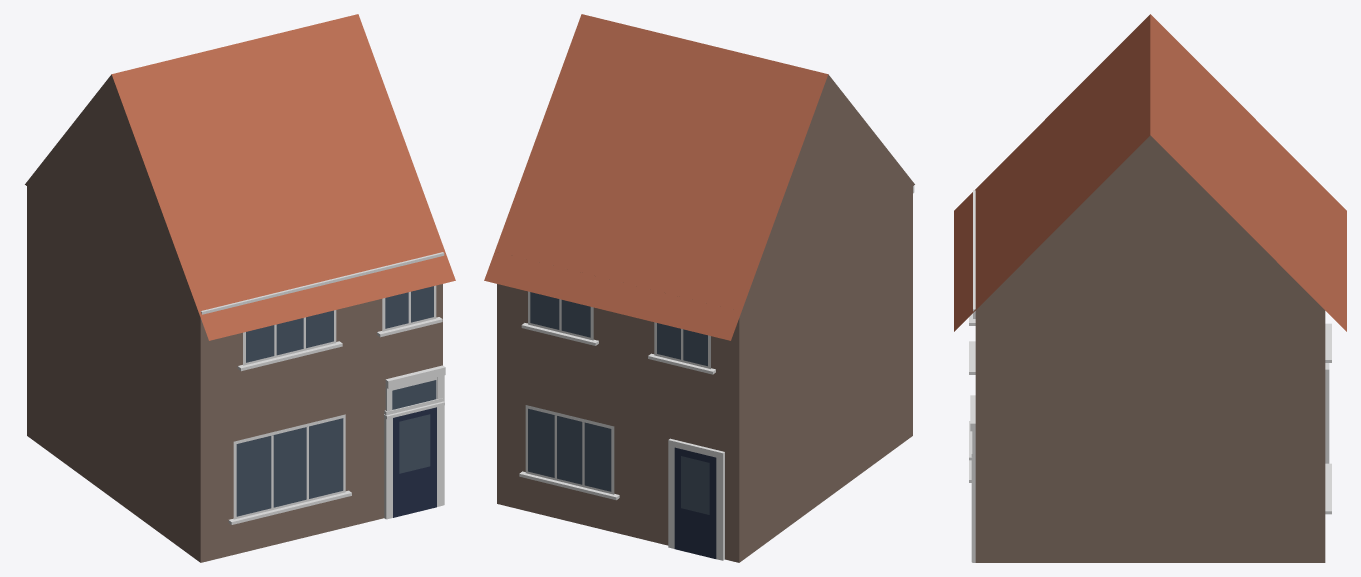
Rendered from nn-row__wide-orange__2__gable__long__solid__mirror.glb.
3 views of the same model, side by side, from view 1: azimuth 30°, elevation 25°; view 2: azimuth 150°, elevation 25°; view 3: azimuth 270°, elevation 25° (orthographic).
Visible parts, largest first — view 1: nn-row__wide-orange__2__gable__long__solid__mirror; view 2: nn-row__wide-orange__2__gable__long__solid__mirror; view 3: nn-row__wide-orange__2__gable__long__solid__mirror.
Boxes of the visible parts, left/top/right/bottom form: nn-row__wide-orange__2__gable__long__solid__mirror: left=25, top=14, right=455, bottom=562; nn-row__wide-orange__2__gable__long__solid__mirror: left=484, top=14, right=914, bottom=562; nn-row__wide-orange__2__gable__long__solid__mirror: left=954, top=14, right=1346, bottom=562.
Bounding box in the file's own units: 5.33 × 8.79 × 7.3.
